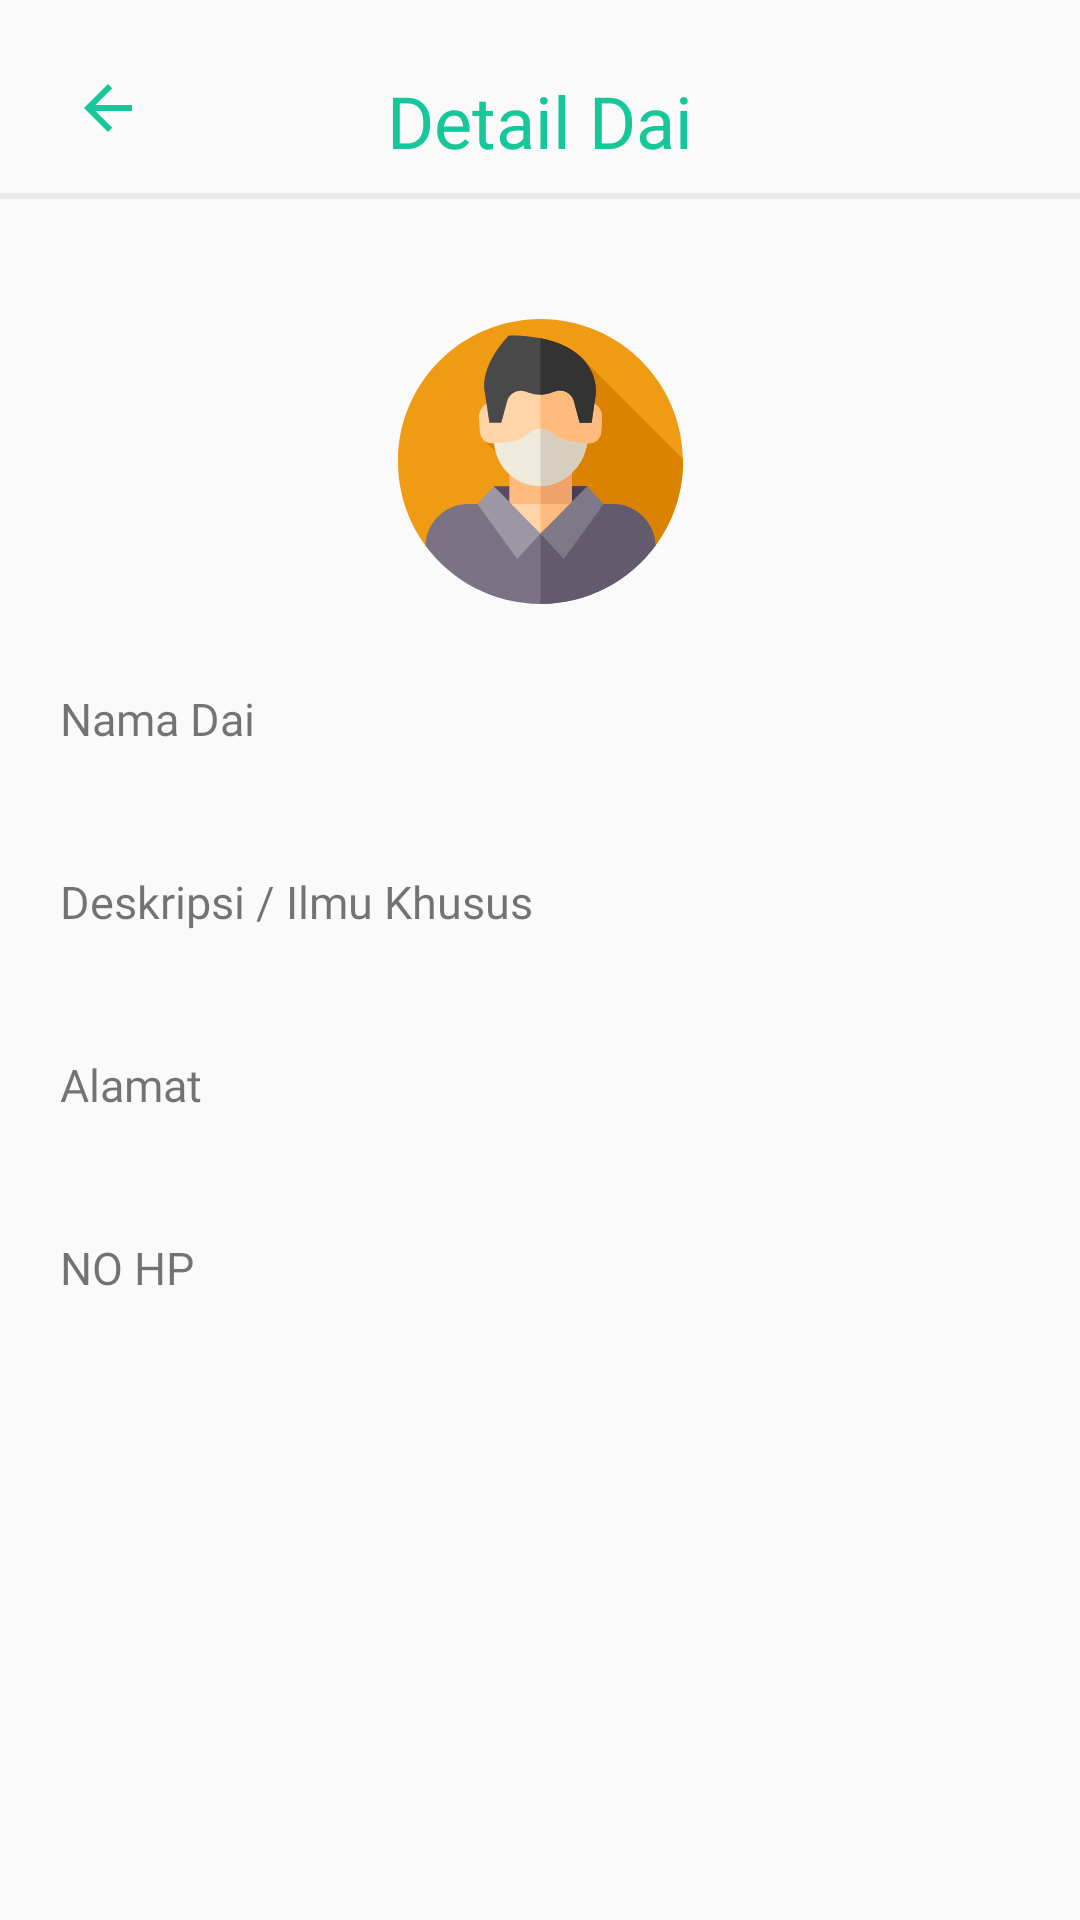

Named icons in this screenshot (1080w x 1920h) and their bounding boxes, [x1=x1, y1=y1, x2=x2, y2=y2]:
arrow: [x1=84, y1=84, x2=132, y2=132]
foto: [x1=398, y1=319, x2=683, y2=604]
